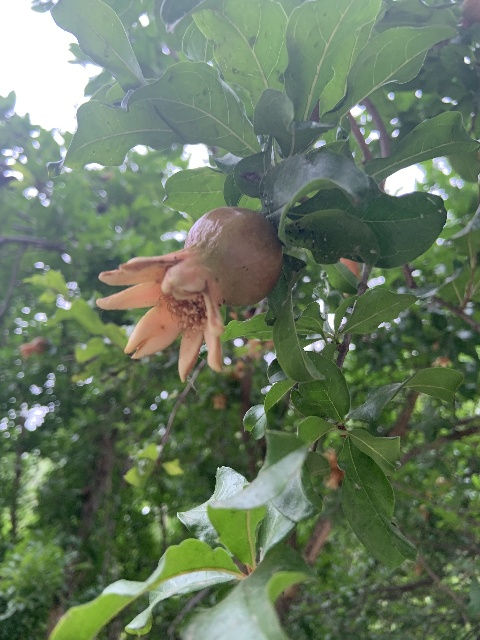early-fruit: (95, 205, 284, 381)
